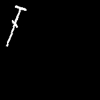double_crochet: (6, 6, 25, 45)
